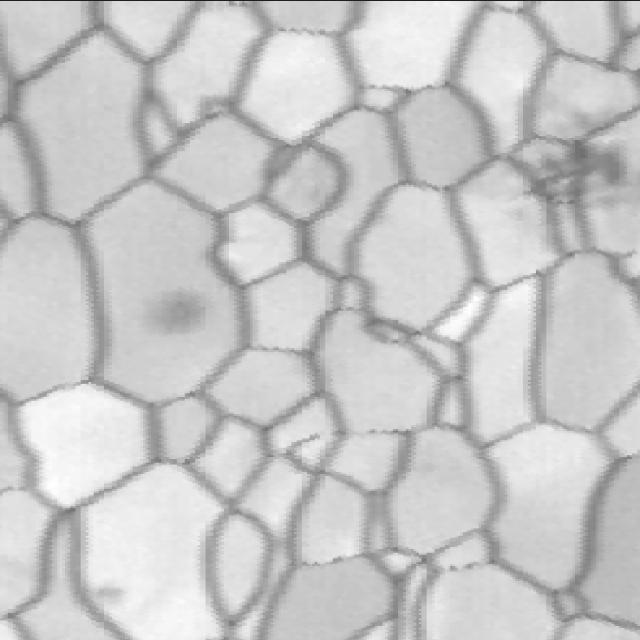good_void: (482, 120, 640, 226), (123, 272, 227, 352), (91, 579, 142, 612)
